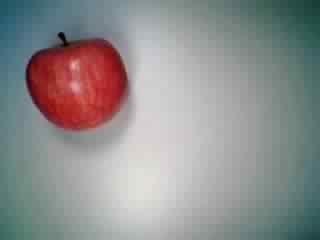apple: (24, 30, 131, 133)
